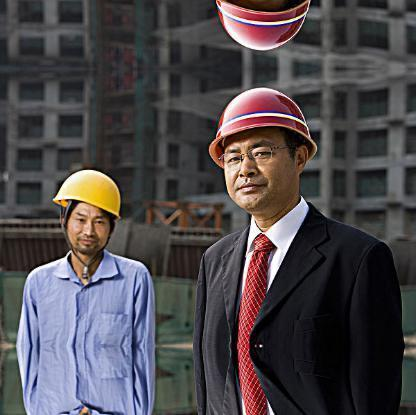helmet: (201, 88, 325, 167), (50, 159, 126, 222)
